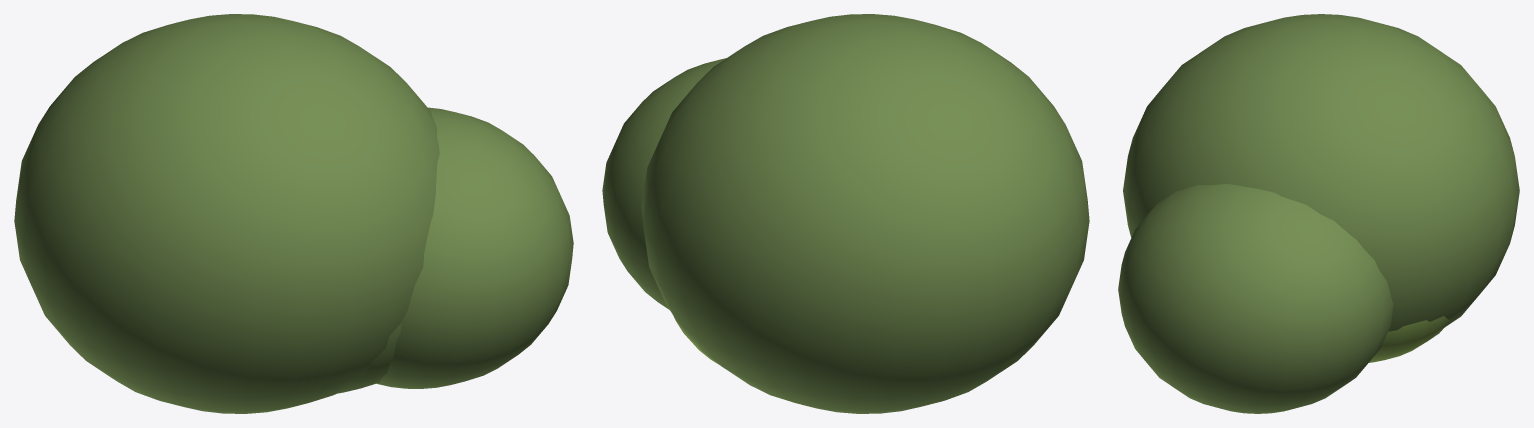
Rendered from prop_bush_a.glb.
3 views of the same model, side by side, from view 1: azimuth 30°, elevation 25°; view 2: azimuth 150°, elevation 25°; view 3: azimuth 270°, elevation 25° (orthographic). The views are drawn at different scales.
Visible parts, largest first — view 1: bsa_l0, bsa_l3, bsa_l1; view 2: bsa_l0, bsa_l3; view 3: bsa_l0, bsa_l3, bsa_l4.
Boxes of the visible parts, bbox=[...] form: bsa_l0: bbox=[14, 14, 439, 413]; bsa_l3: bbox=[377, 107, 573, 388]; bsa_l1: bbox=[337, 323, 401, 393]; bsa_l0: bbox=[641, 14, 1089, 413]; bsa_l3: bbox=[602, 58, 726, 309]; bsa_l0: bbox=[1123, 14, 1519, 331]; bsa_l3: bbox=[1118, 184, 1393, 413]; bsa_l4: bbox=[1369, 316, 1452, 362].
Bounding box in the file's own units: 1.02 × 0.7238 × 0.8453.
